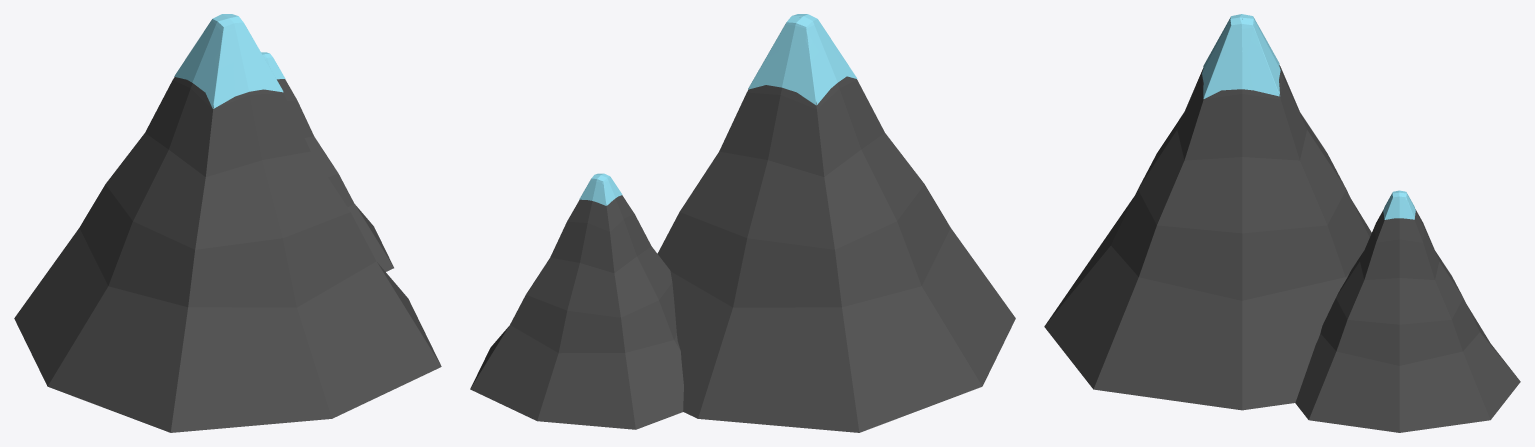
The model's file is Mountain.fbx.
3 renders of one model, left to right at view 1: azimuth 30°, elevation 25°; view 2: azimuth 150°, elevation 25°; view 3: azimuth 270°, elevation 25°, orthographic. The views are drawn at different scales.
Parts seen in each view (by area): view 1: Mounatin, Mountain_Snow, Mounatin.001; view 2: Mounatin, Mounatin.001, Mountain_Snow, Mountain_Snow.001; view 3: Mounatin, Mounatin.001, Mountain_Snow, Mountain_Snow.001.
Boxes of the visible parts, <box> form: Mounatin: <box>14,77,441,432</box>; Mountain_Snow: <box>174,14,283,108</box>; Mounatin.001: <box>277,79,393,271</box>; Mounatin: <box>657,76,1015,432</box>; Mounatin.001: <box>470,195,683,429</box>; Mountain_Snow: <box>748,14,857,105</box>; Mountain_Snow.001: <box>579,173,622,205</box>; Mounatin: <box>1044,19,1371,410</box>; Mounatin.001: <box>1295,209,1520,432</box>; Mountain_Snow: <box>1202,14,1280,98</box>; Mountain_Snow.001: <box>1383,190,1415,219</box>.
Bounding box in the file's own units: 1758 × 1336 × 1866.
